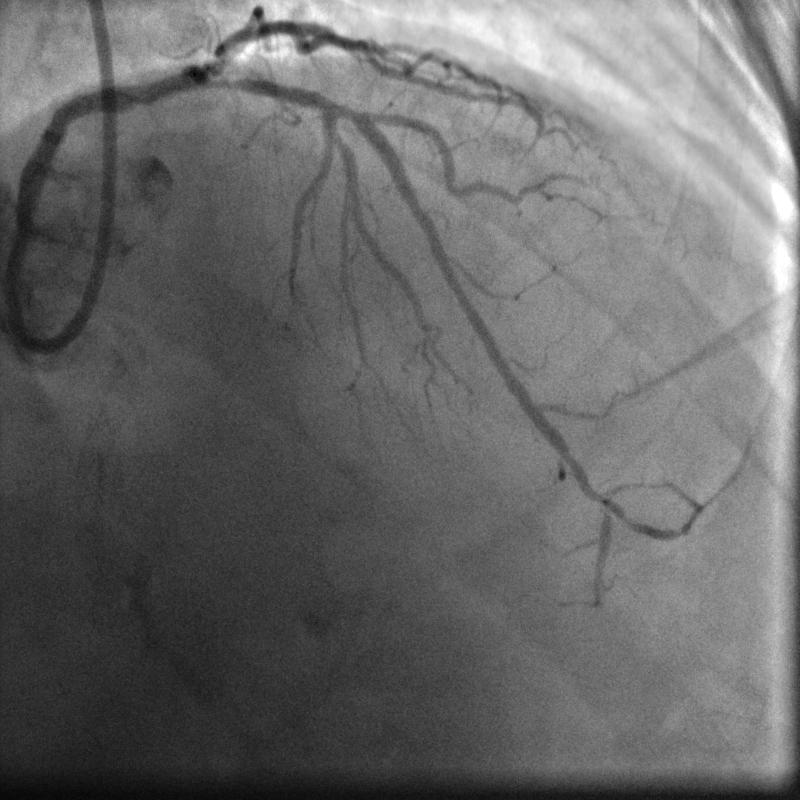Stenosis: (200, 68, 264, 98)
